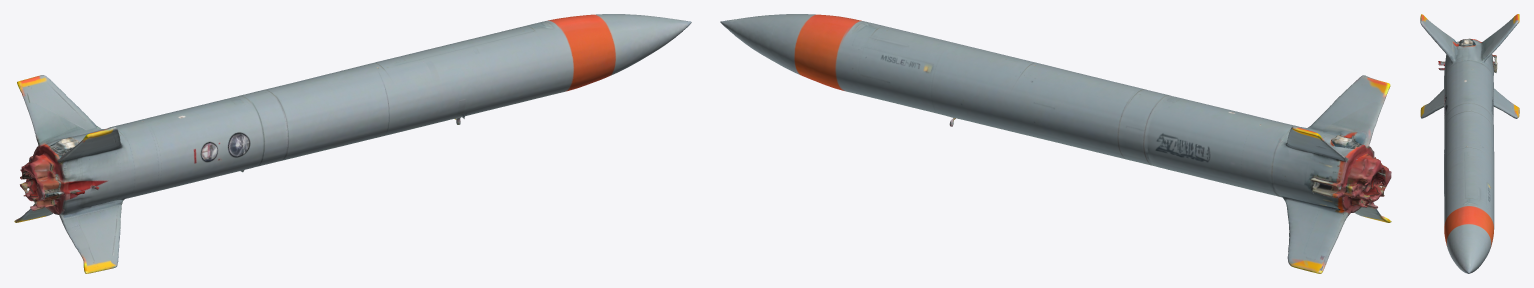
Rendered from missile.glb.
The picture shows the model from 3 angles, left to right: view 1: azimuth 30°, elevation 25°; view 2: azimuth 150°, elevation 25°; view 3: azimuth 270°, elevation 25°; orthographic projection. The views are drawn at different scales.
Bounding box in the file's own units: 2 × 0.4086 × 0.3811.
Materials: 1 (1 with a texture image).
